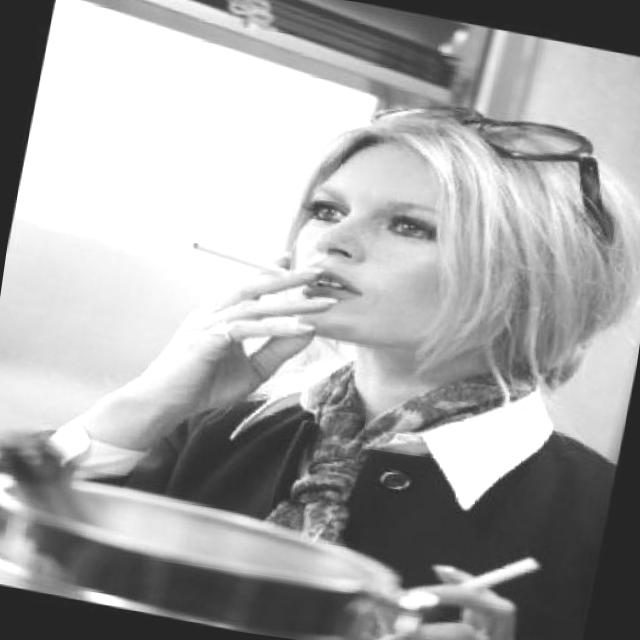cigarette: (451, 536, 555, 606), (184, 236, 298, 282)
